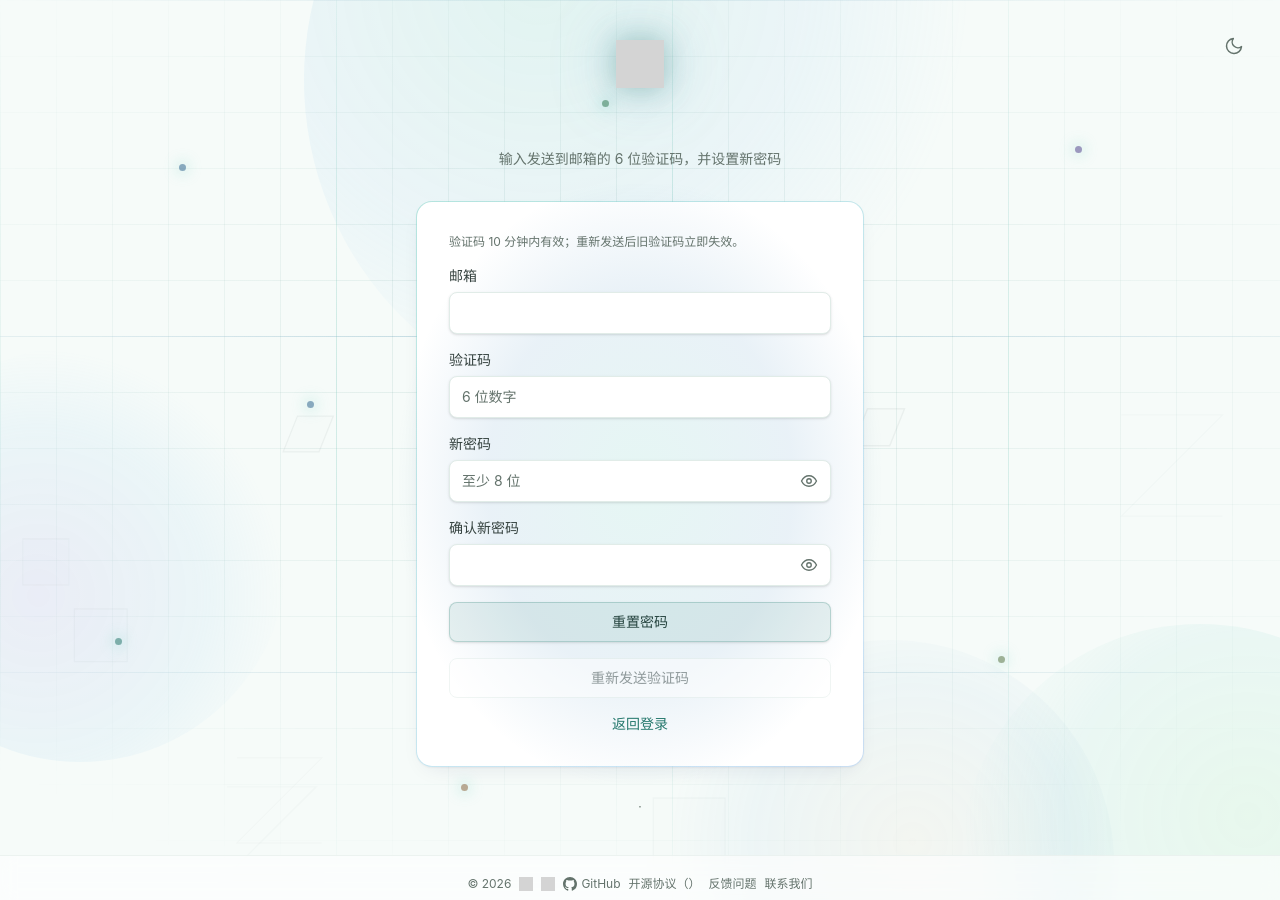
Test case: ResetPasswordPage › 两次密码不一致时提示错误
The width and height of the screenshot is (1280, 900).
In the field labelled "邮箱": [640, 312] box [449,292,831,334], type "a@example.com"
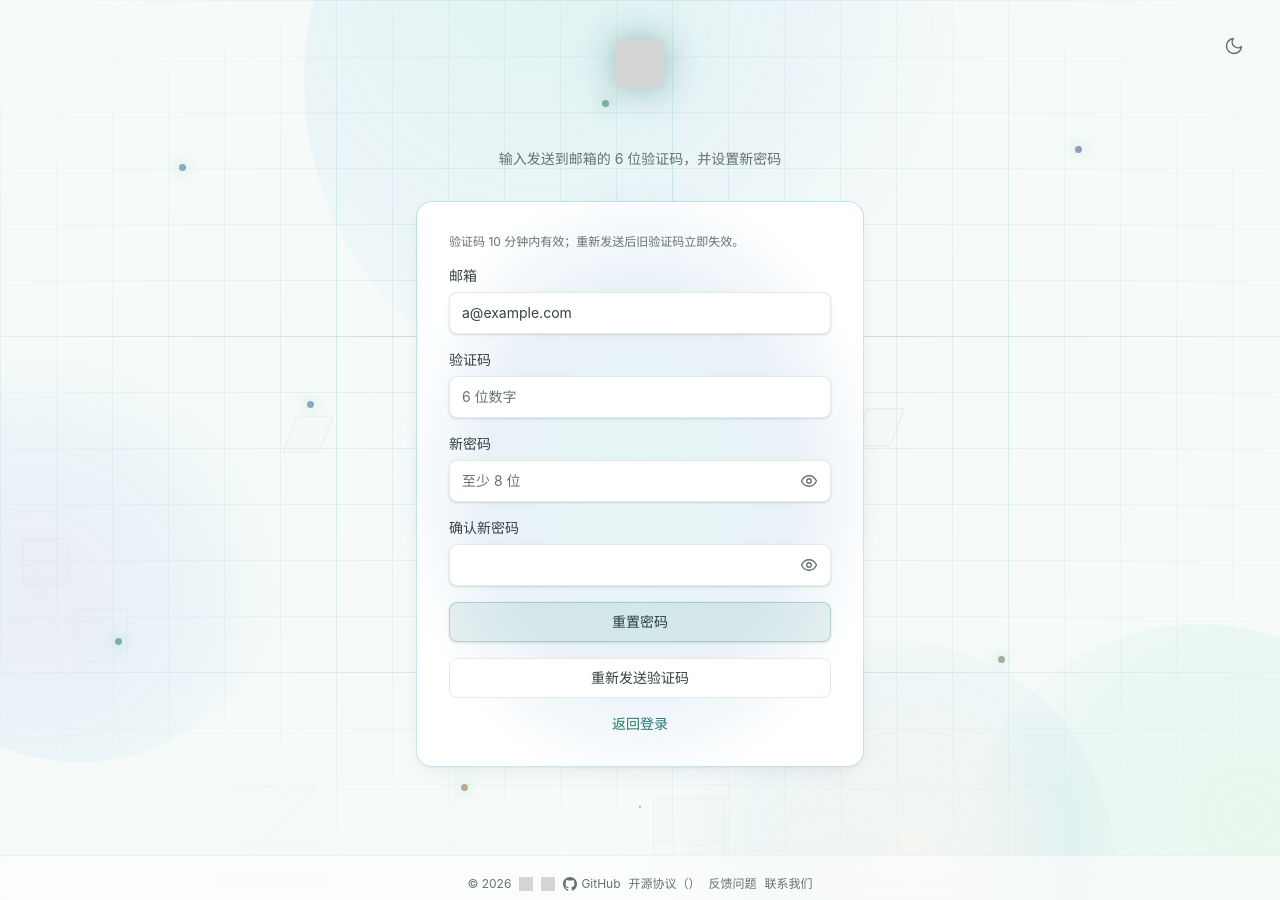
In the field labelled "验证码": [640, 396] box [449,376,831,418], type "123456"
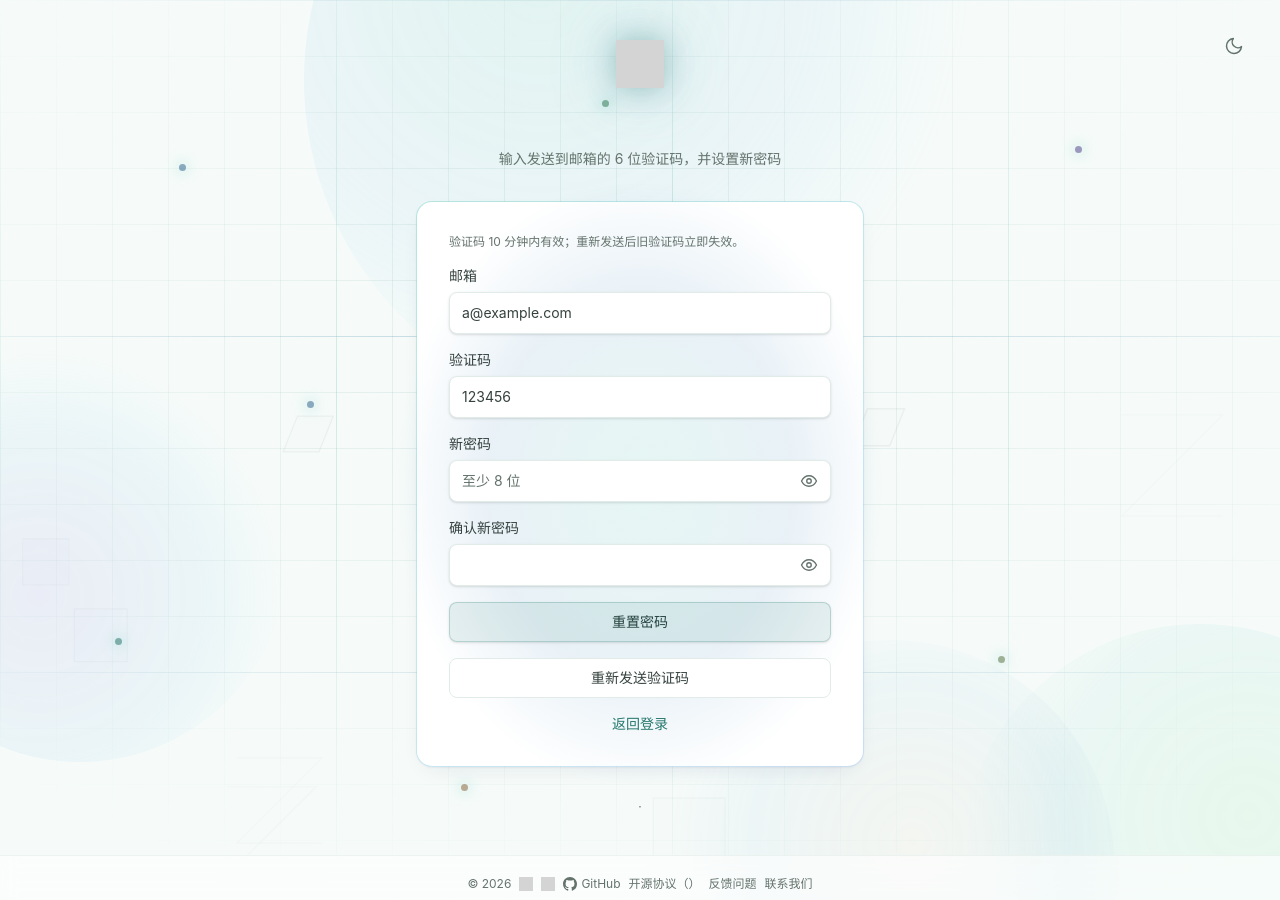
In the password field labelled "新密码": [640, 480] box [449,460,831,502], type "newpassword123"
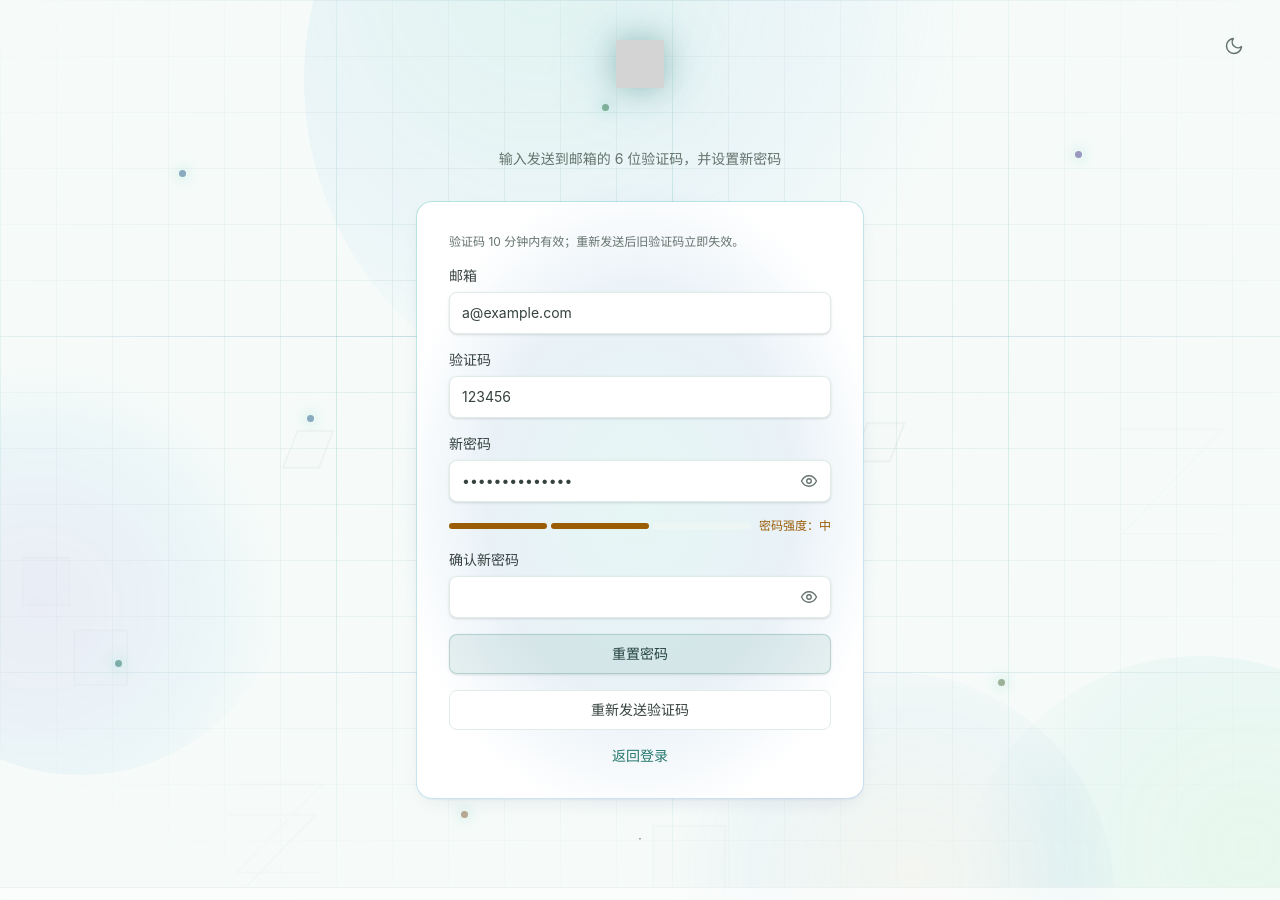
In the password field labelled "确认新密码": [640, 596] box [449,576,831,618], type "different456"
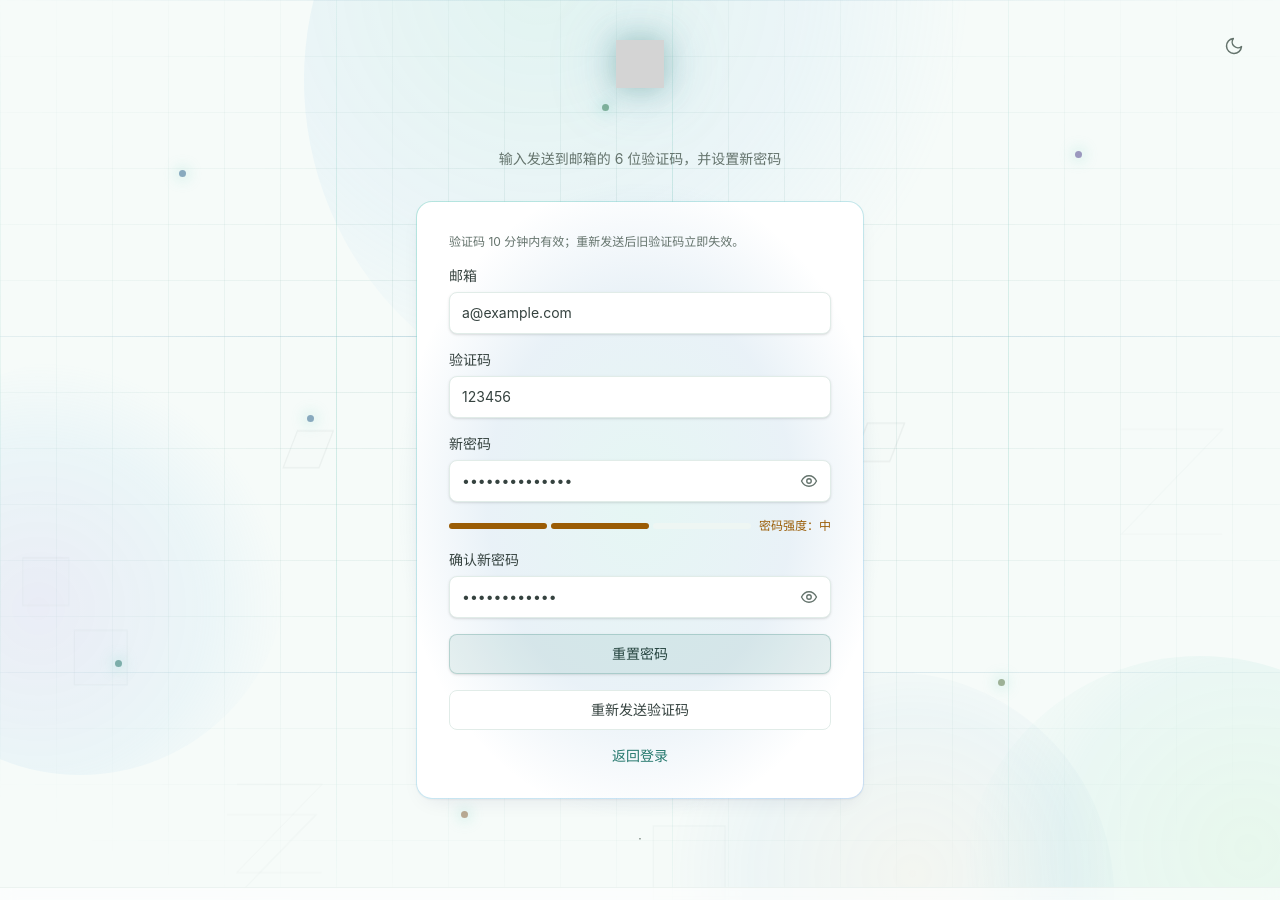
Click the button "重置密码": [640, 654] box [449,634,831,674]
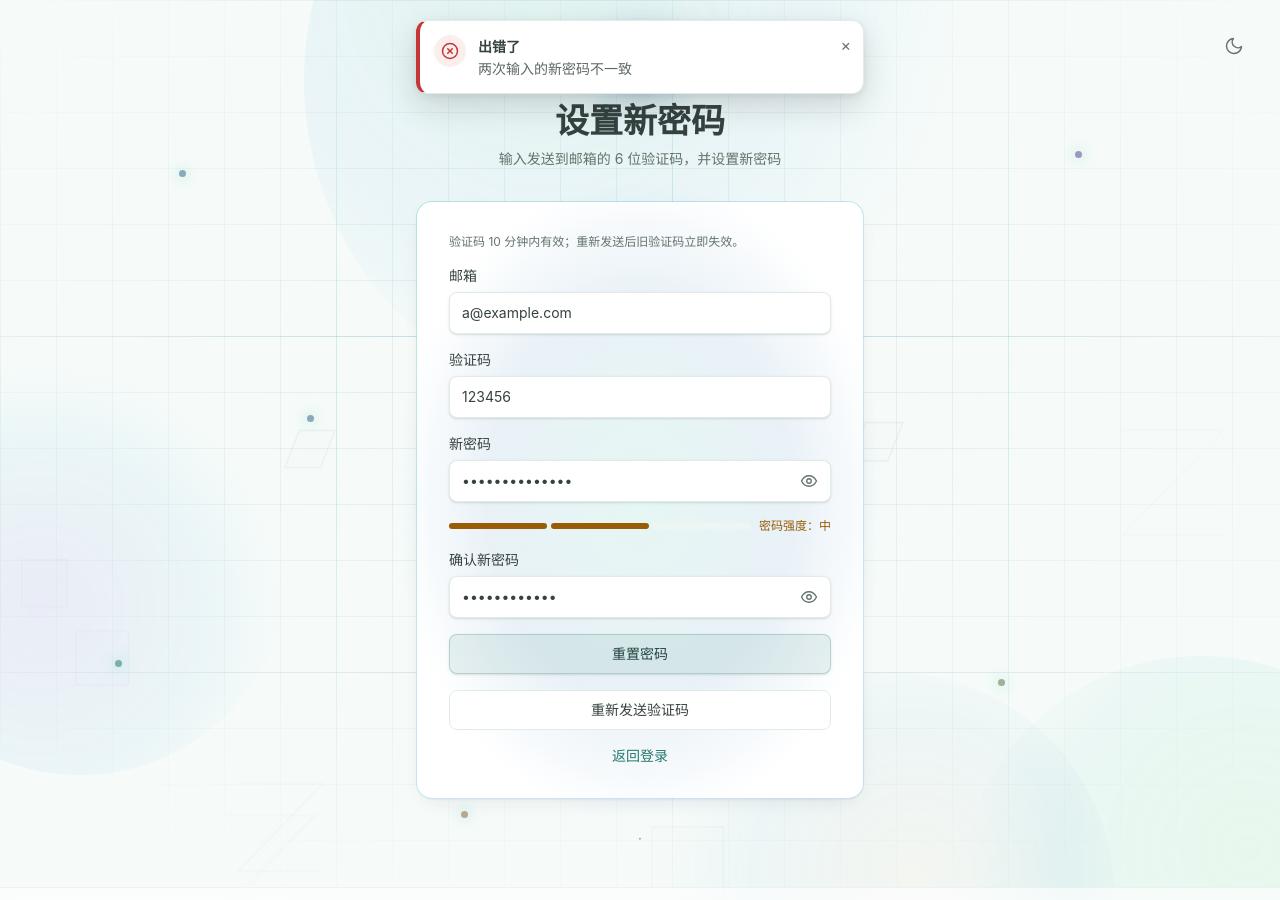
Result: the text "两次输入的新密码不一致" is shown at [478,60,632,77]
